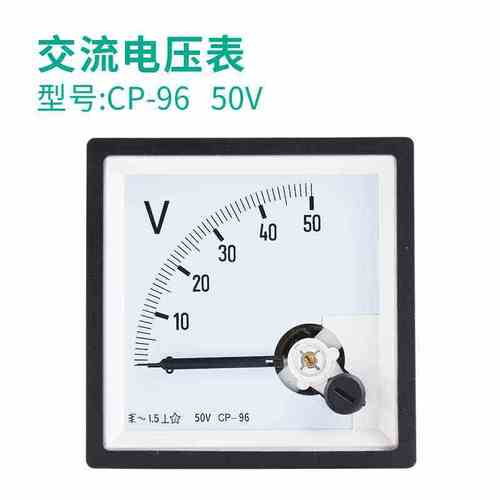pointer: (101, 154, 400, 452)
